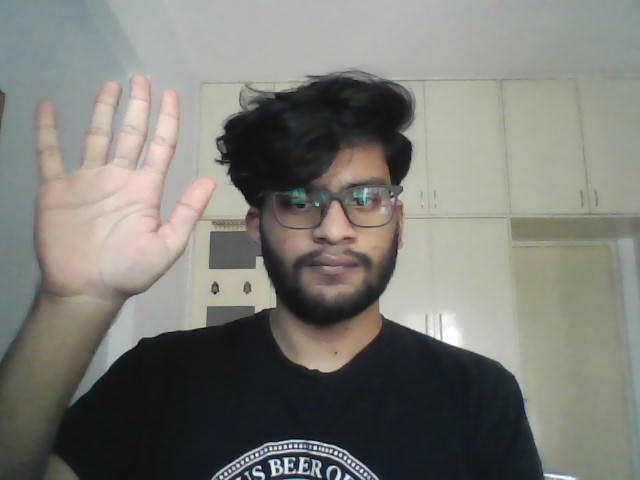Goodbye: (30, 72, 218, 298)
